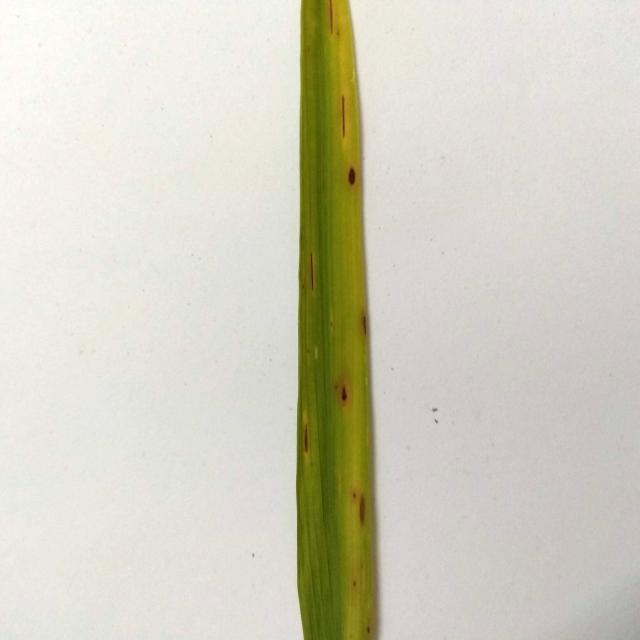brownspots: (352, 487, 372, 532), (344, 158, 361, 204), (331, 382, 358, 408), (358, 306, 368, 340)
